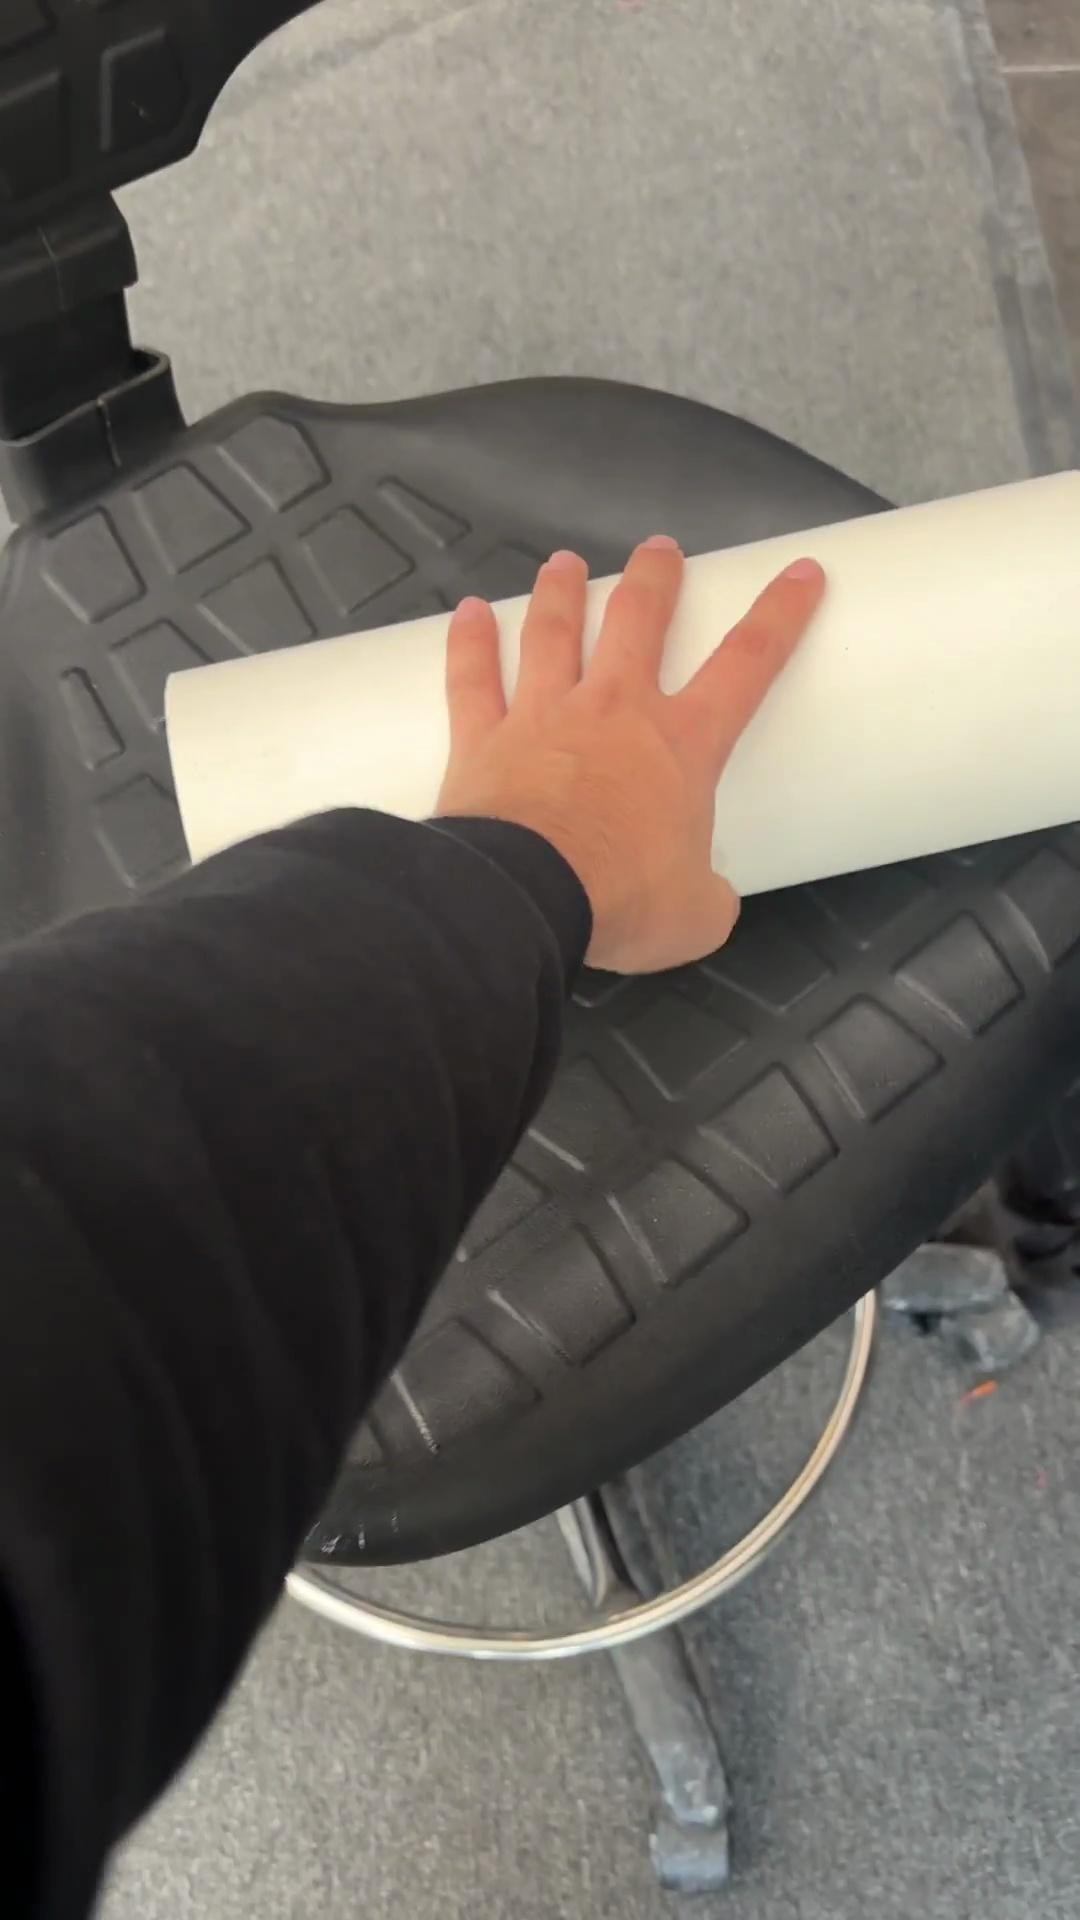CORAL: (160, 464, 1077, 902)
